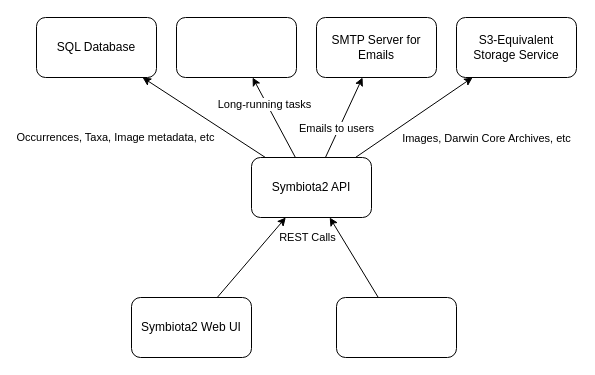
Image size: 595x375. Some labels were removed from this diagram. The shapes that lost their labels are listed below. From the top down, each one's box as (x1, y1, x2, y2) in pixels, then its label:
(176, 16, 296, 78): Redis Job Queue
(336, 296, 456, 358): 3rd-party services
